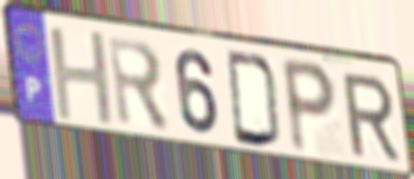6: (173, 46, 222, 138)
D: (224, 47, 284, 152)
H: (46, 26, 118, 128)
P: (279, 53, 340, 158)
R: (105, 33, 173, 137), (339, 72, 403, 163)
